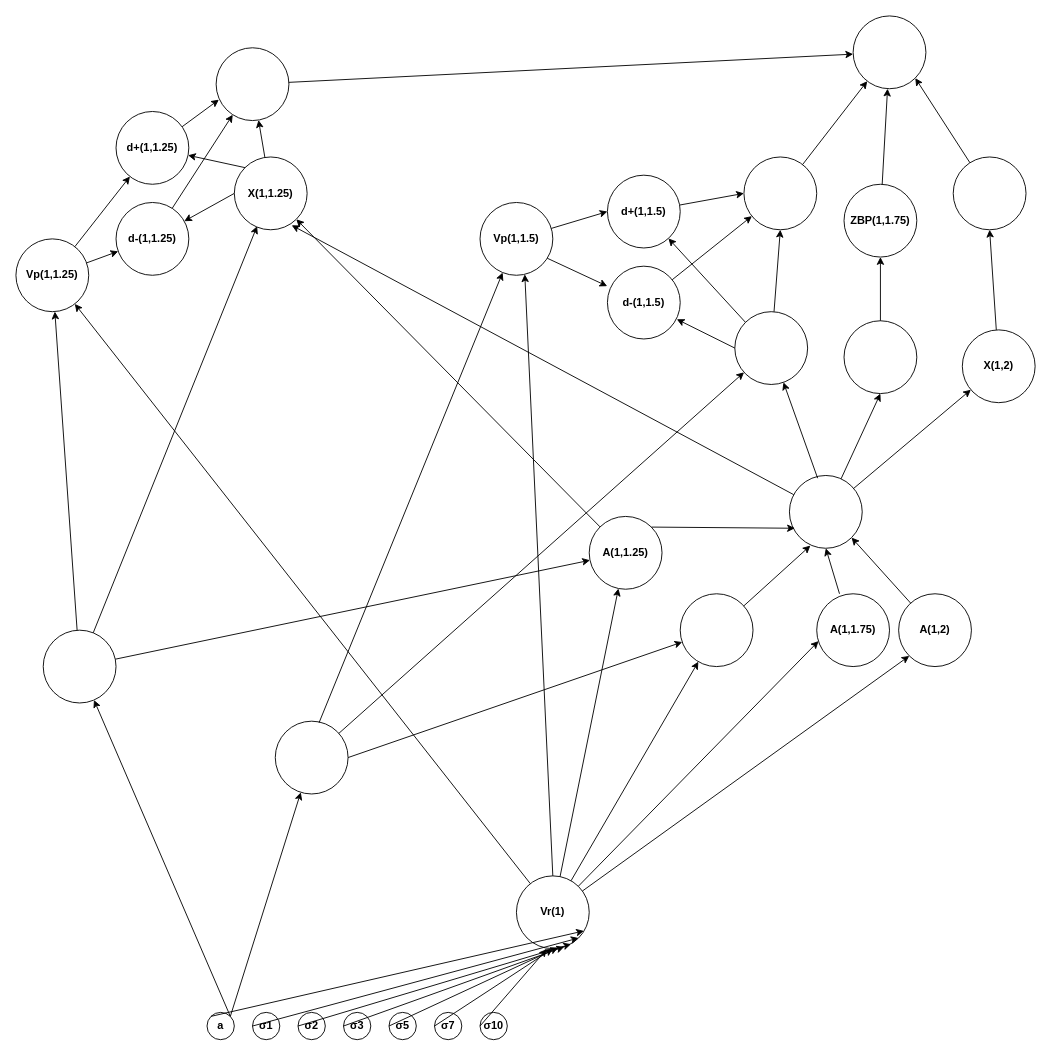
Image size: 1051x1056. Some labels were removed from this diagram. The centre of each missing label's shape, as x and y in pixels:
A(1,1.5): [716,630]
B(1,1.25): [79,666]
B(1,1.5): [311,757]
PS(1,2): [889,52]
r*(1,2): [825,511]
X(1,1.5): [771,347]
X(1,1.75): [880,357]
ZBP(1,1.25): [252,84]
ZBP(1,1.5): [780,193]
ZBP(1,2): [989,193]
